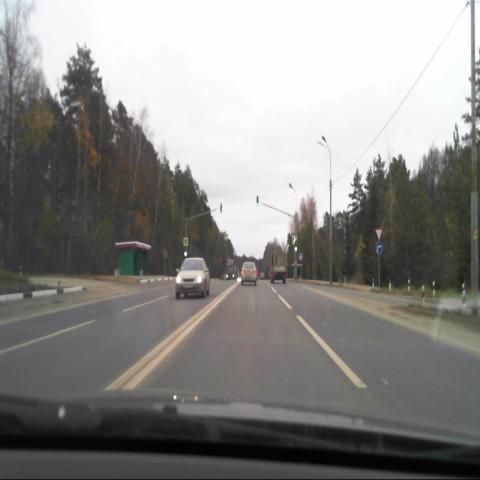2_4: (374, 228, 382, 241)
4_1_2: (375, 241, 383, 256)
